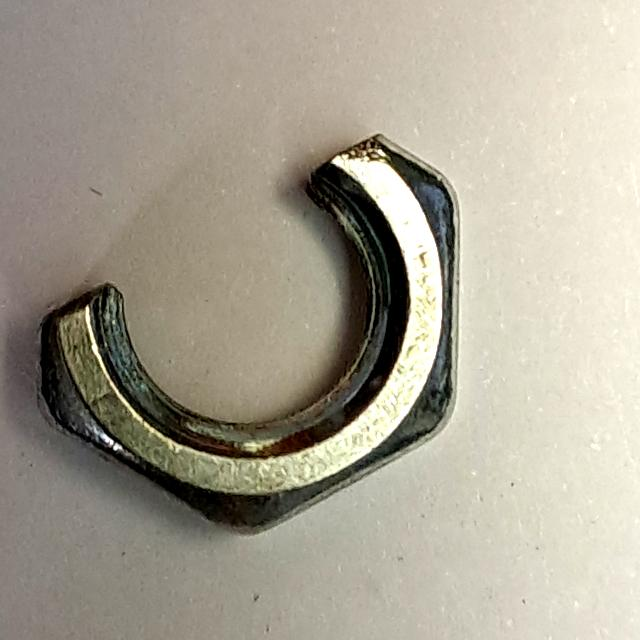Fracture: (25, 128, 472, 550)
